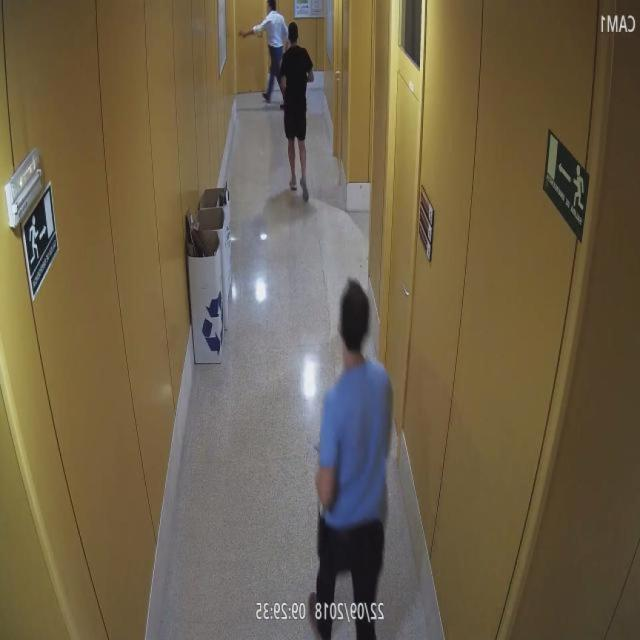pistol: (236, 26, 246, 42)
